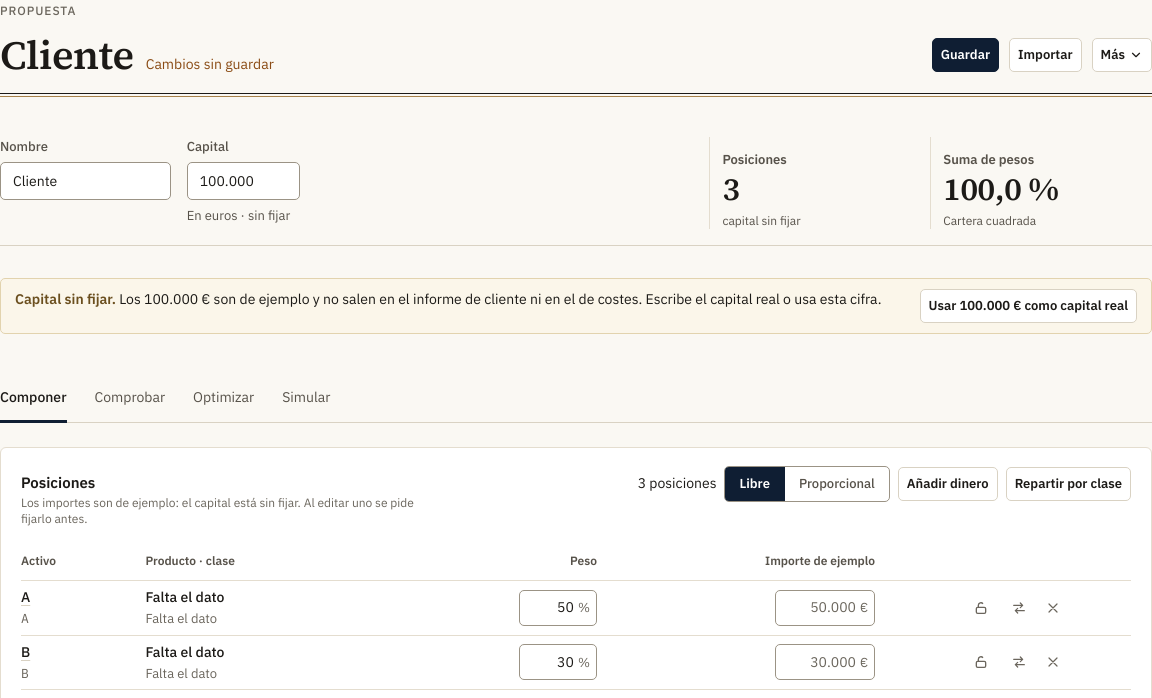
hallazgo 47: guardar, con un solo nombre › si no se puede guardar, el diálogo se queda y dice por qué
Click the button "Más".
click(1122, 55)  # box [1092, 38, 1151, 72]
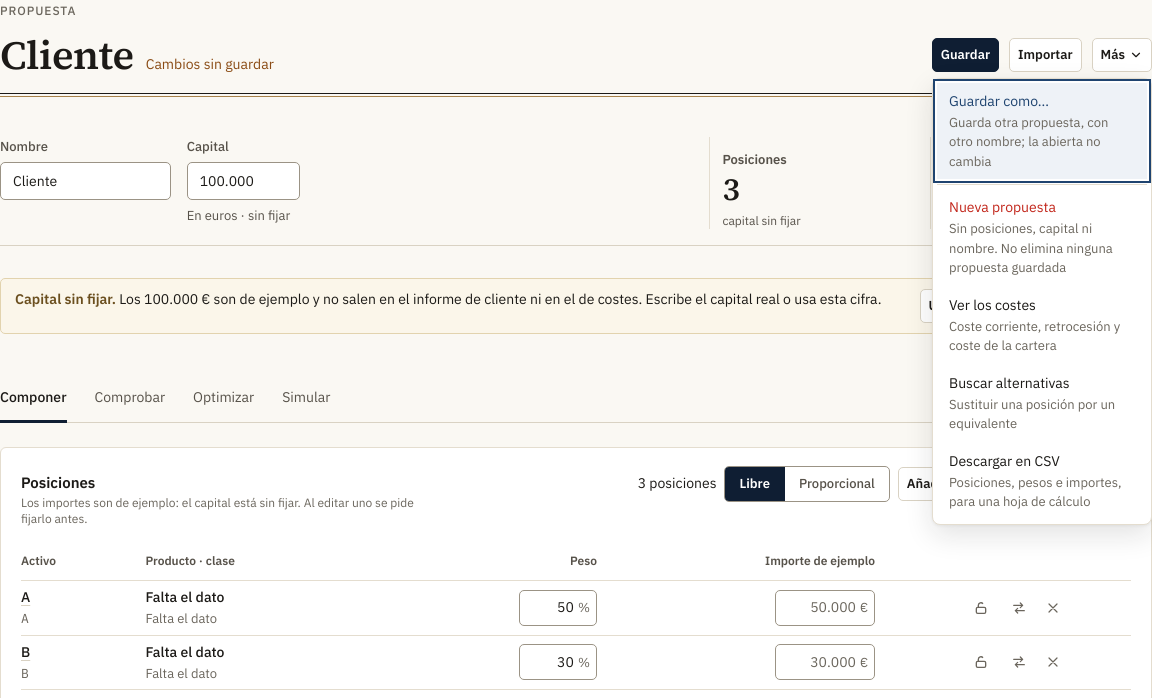
Click the menu item that starts with "Guardar como…".
click(1042, 131)  # box [937, 83, 1147, 180]
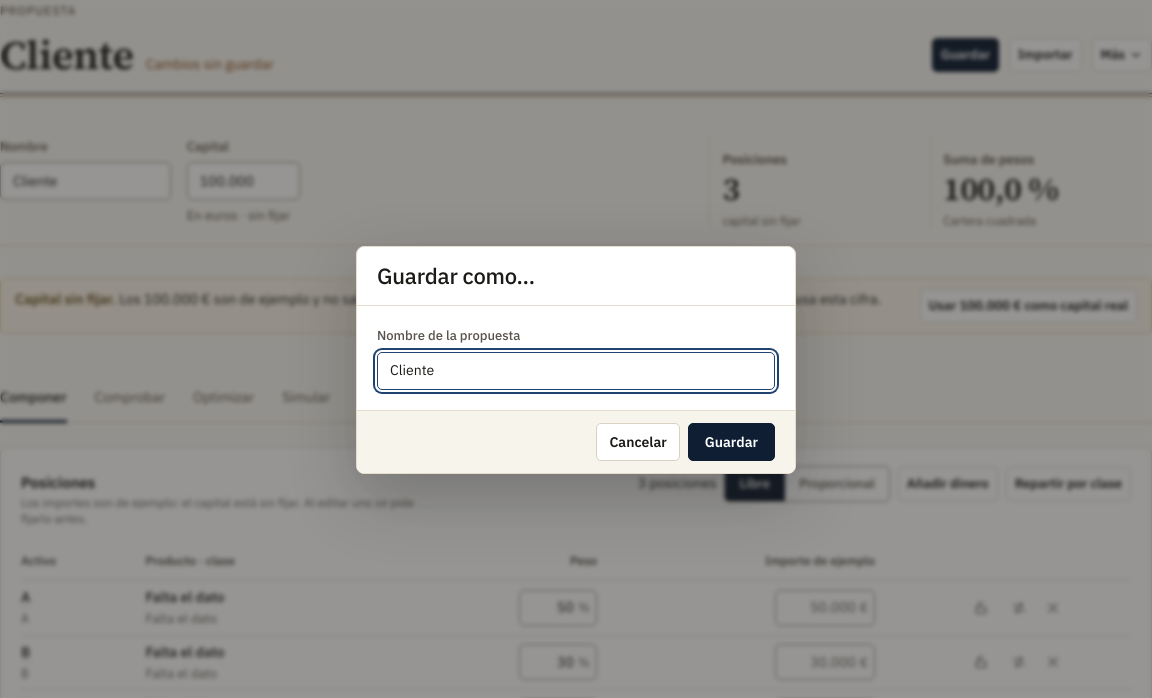
Submit the form, box [357, 247, 795, 473]
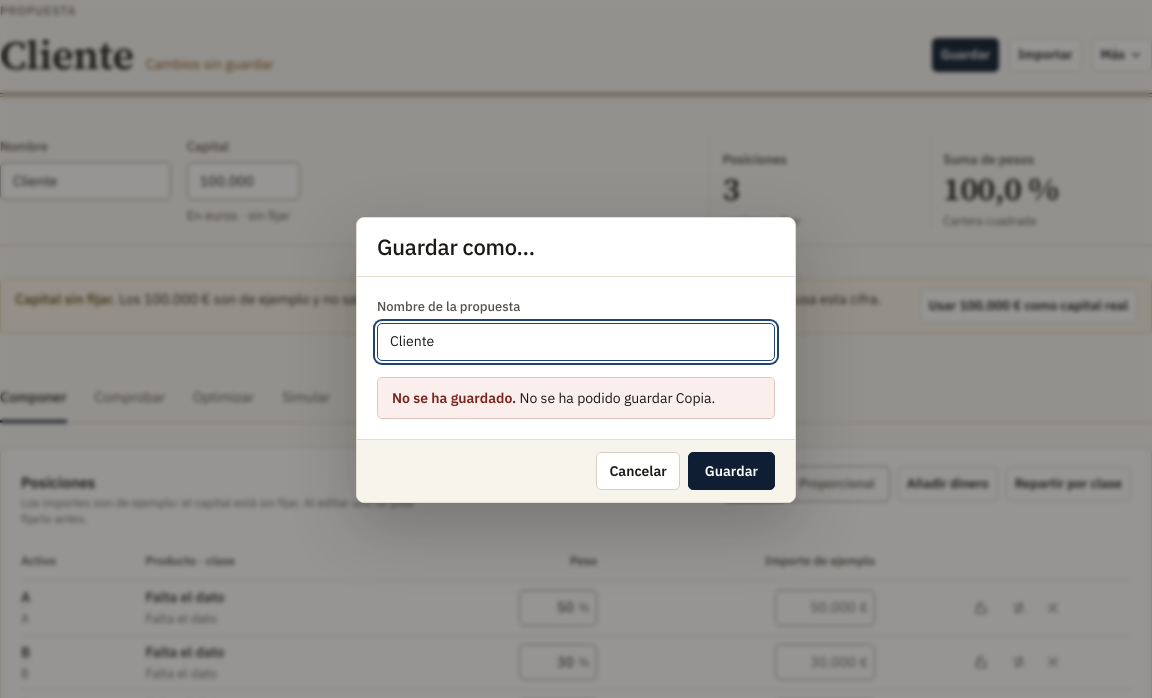
Expected: the message "No se ha guardado. No se ha podido guardar Copia." is shown, [377, 377, 775, 419]
